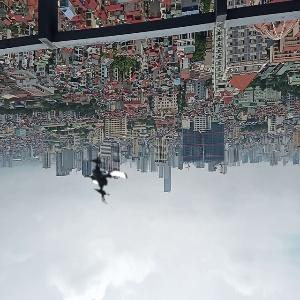drone: (80, 153, 131, 204)
